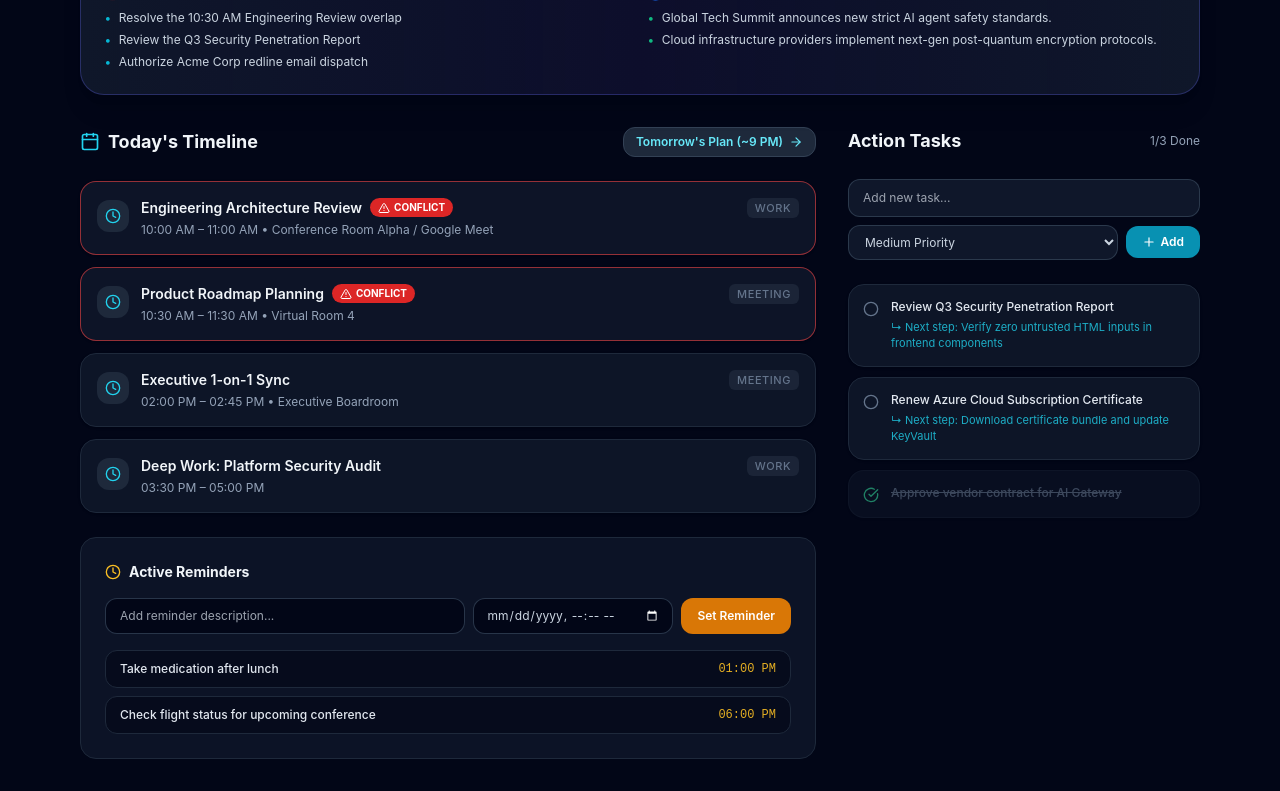
PHASE 5: Today, Evening Plan and Morning Briefing › Reminders reject past times with a clear validation error
(page scrolled)
Type "Past reminder test" into the field with test id "reminder-title-input" at (285, 616), box x1=105 y1=598 x2=465 y2=634
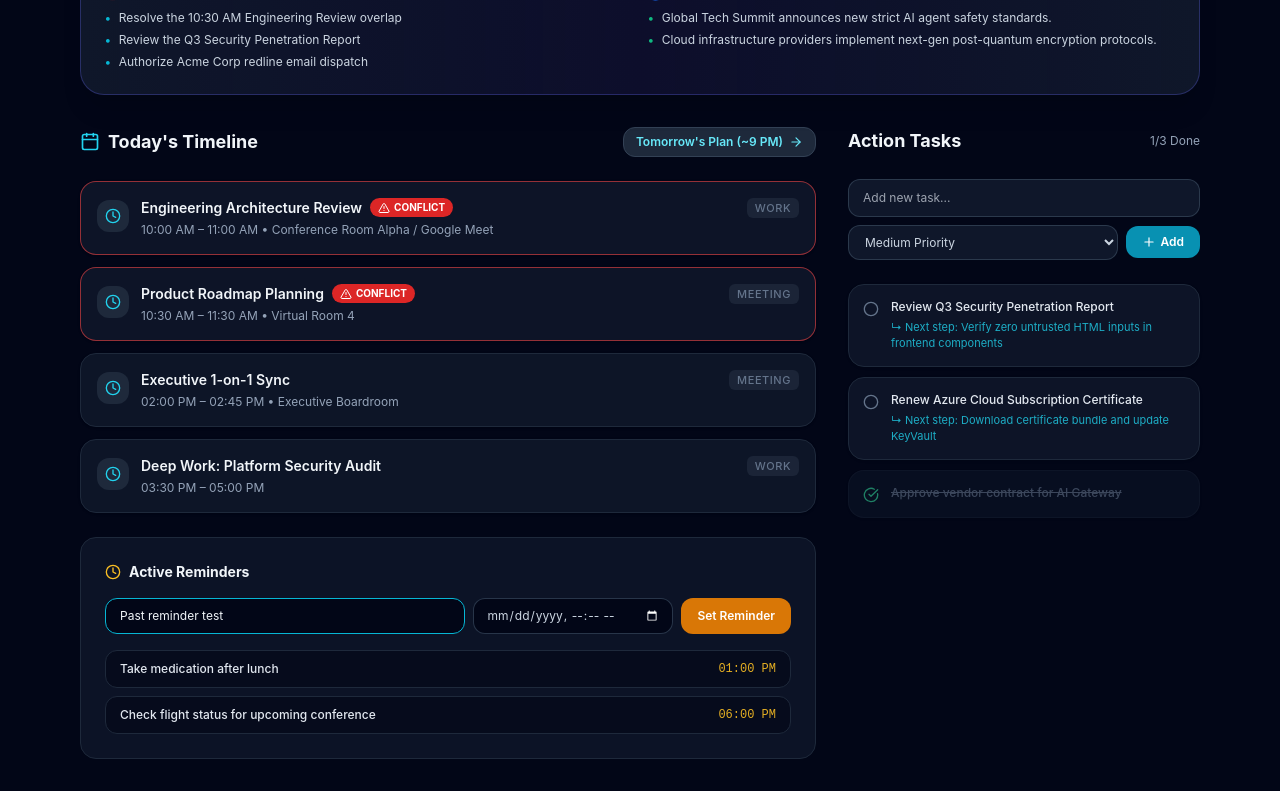
Type "2020-01-01T12:00" into the field with test id "reminder-time-input" at (573, 616), box x1=473 y1=598 x2=673 y2=634
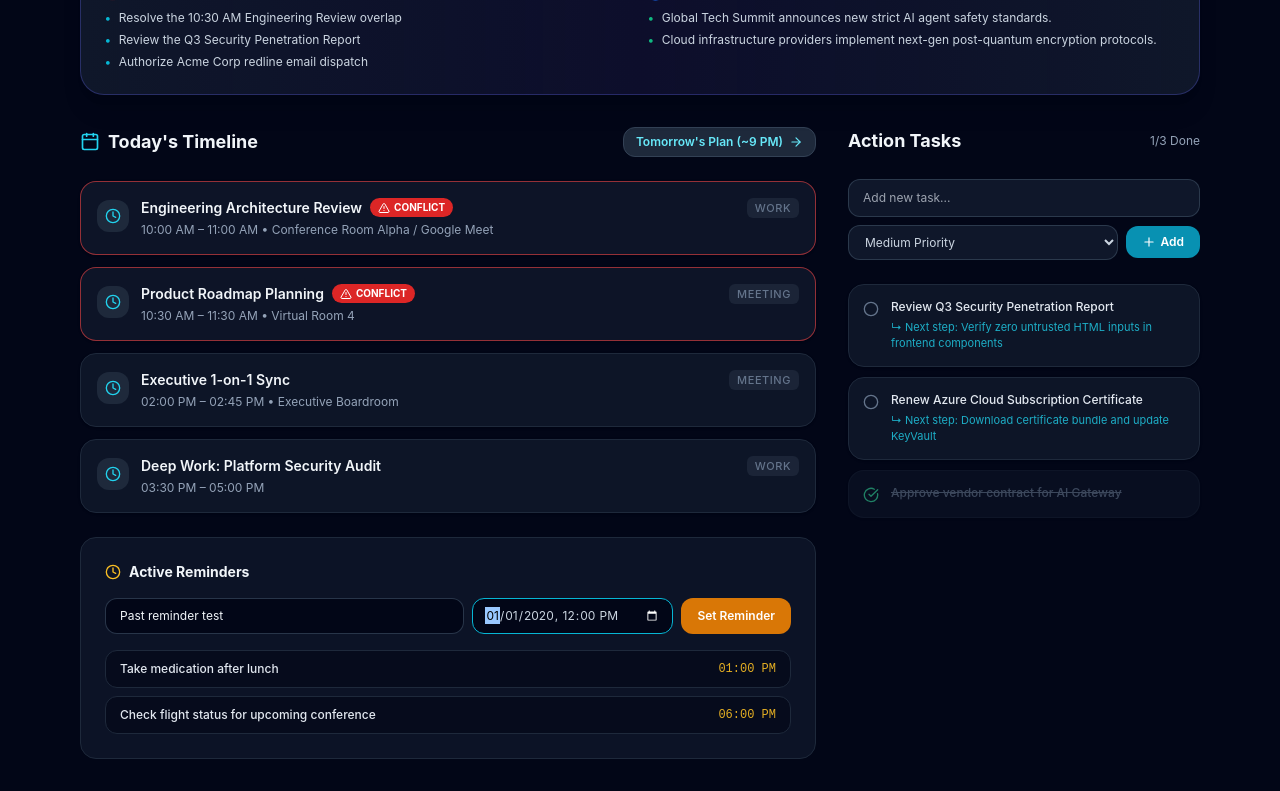
Click the button with test id "set-reminder-btn" at (736, 616), box x1=681 y1=598 x2=791 y2=634
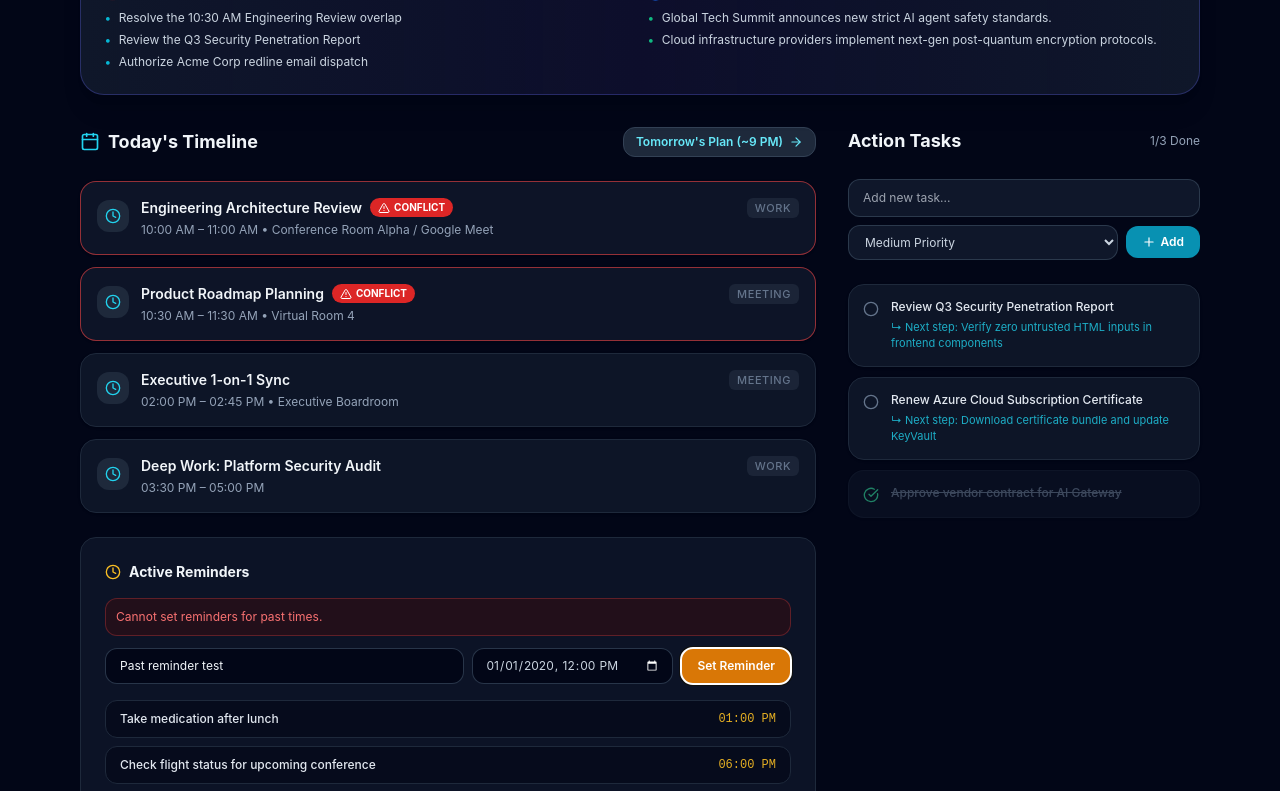
Expected: the text with test id "reminder-error" shows "Cannot set reminders for past times", x1=116 y1=609 x2=322 y2=624
